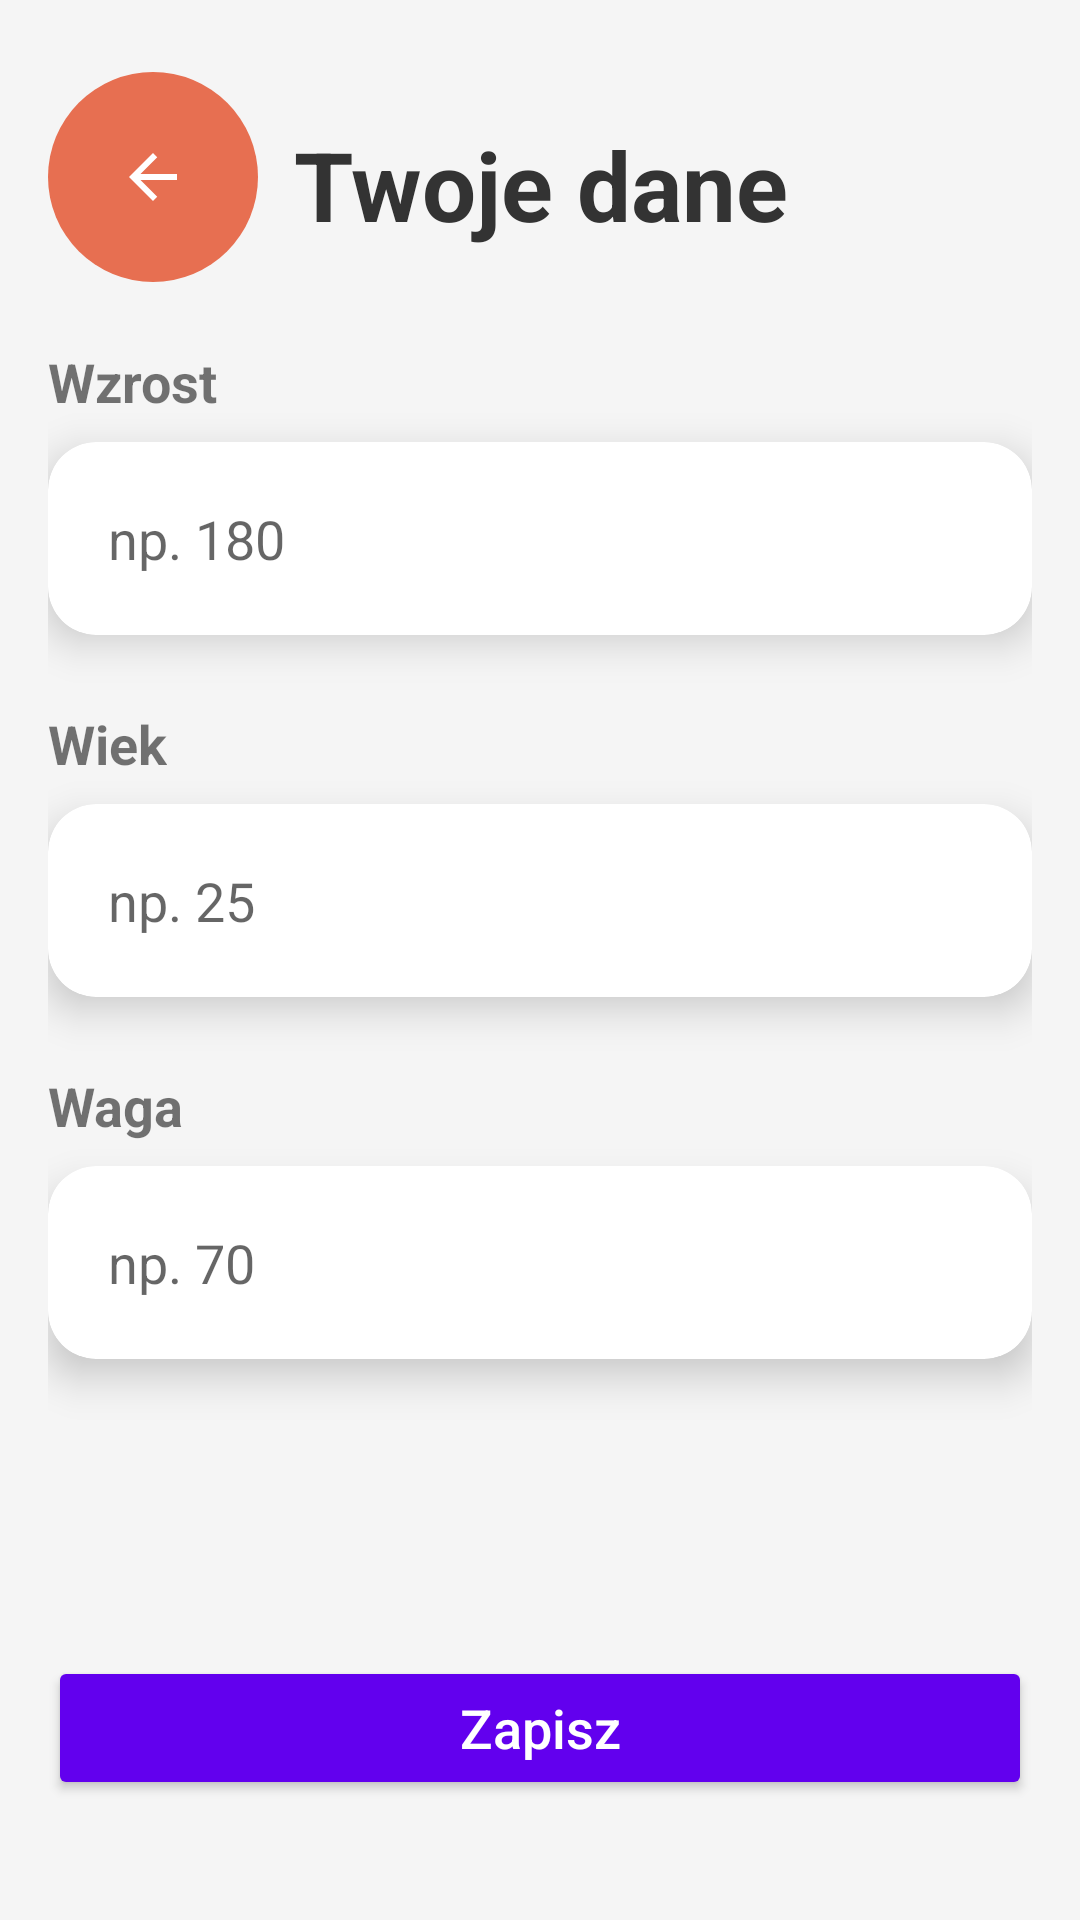

Icons on this 1080px×1920px Android screen, each with its box as box=[x1, y1, x2, y2]:
Powrót: box=[48, 72, 258, 282]
